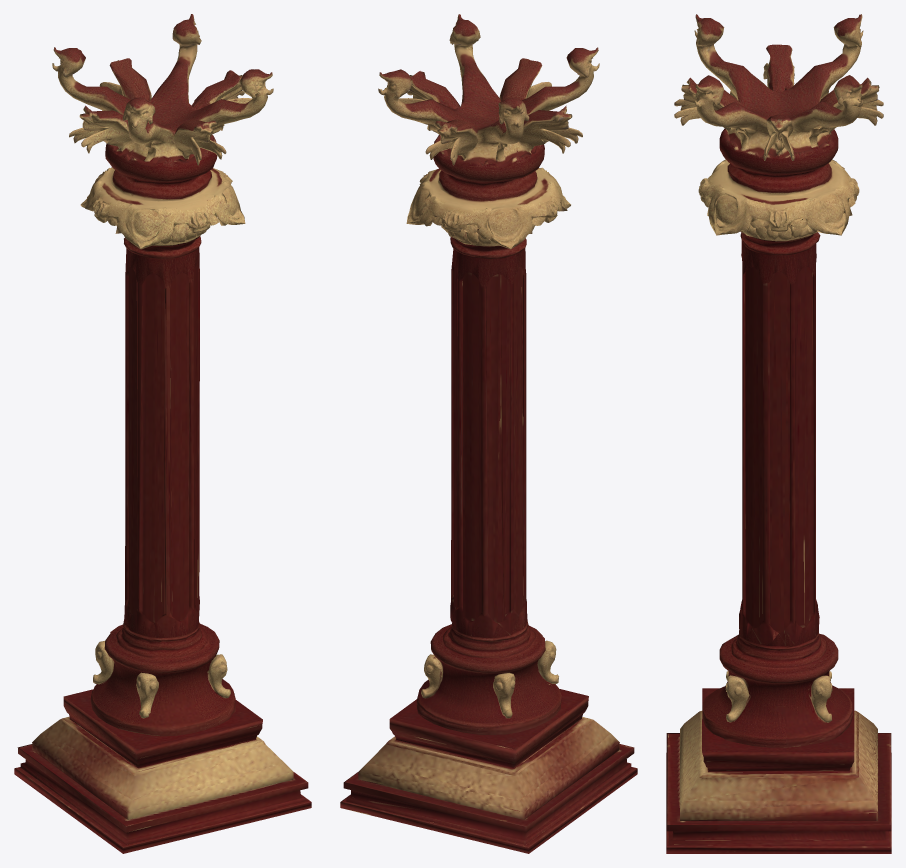
The model's file is long-tru-rong-cuon.glb.
3 views of the same model, side by side, from view 1: azimuth 30°, elevation 25°; view 2: azimuth 150°, elevation 25°; view 3: azimuth 270°, elevation 25° (orthographic). The views are drawn at different scales.
Size of the model in its own units: 0.5393 by 2 by 0.5393.
1 material, 1 textured.
